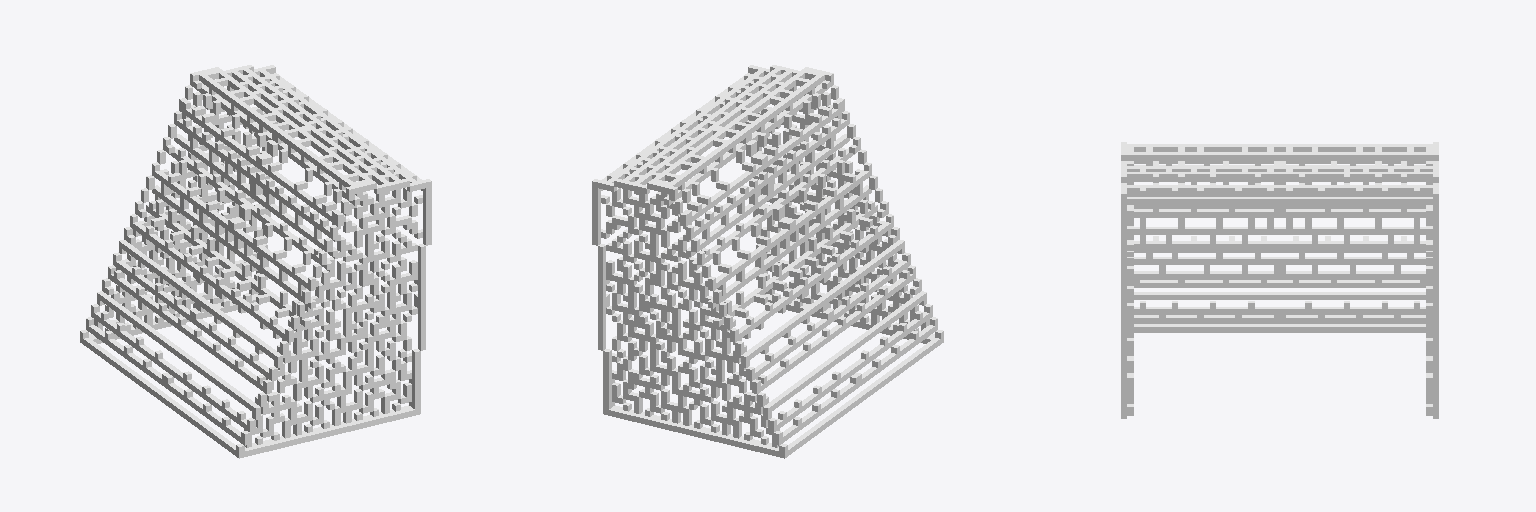
Rendered from goal.obj.
3 views of the same model, side by side, from view 1: azimuth 30°, elevation 25°; view 2: azimuth 150°, elevation 25°; view 3: azimuth 270°, elevation 25° (orthographic).
Visible parts, largest first — view 1: goal; view 2: goal; view 3: goal.
Boxes of the visible parts, box(x1,y1,x2,y2) form: goal: box(80, 65, 431, 458); goal: box(592, 65, 943, 458); goal: box(1121, 142, 1438, 418).
Size of the model in its own units: 35 by 42 by 50.